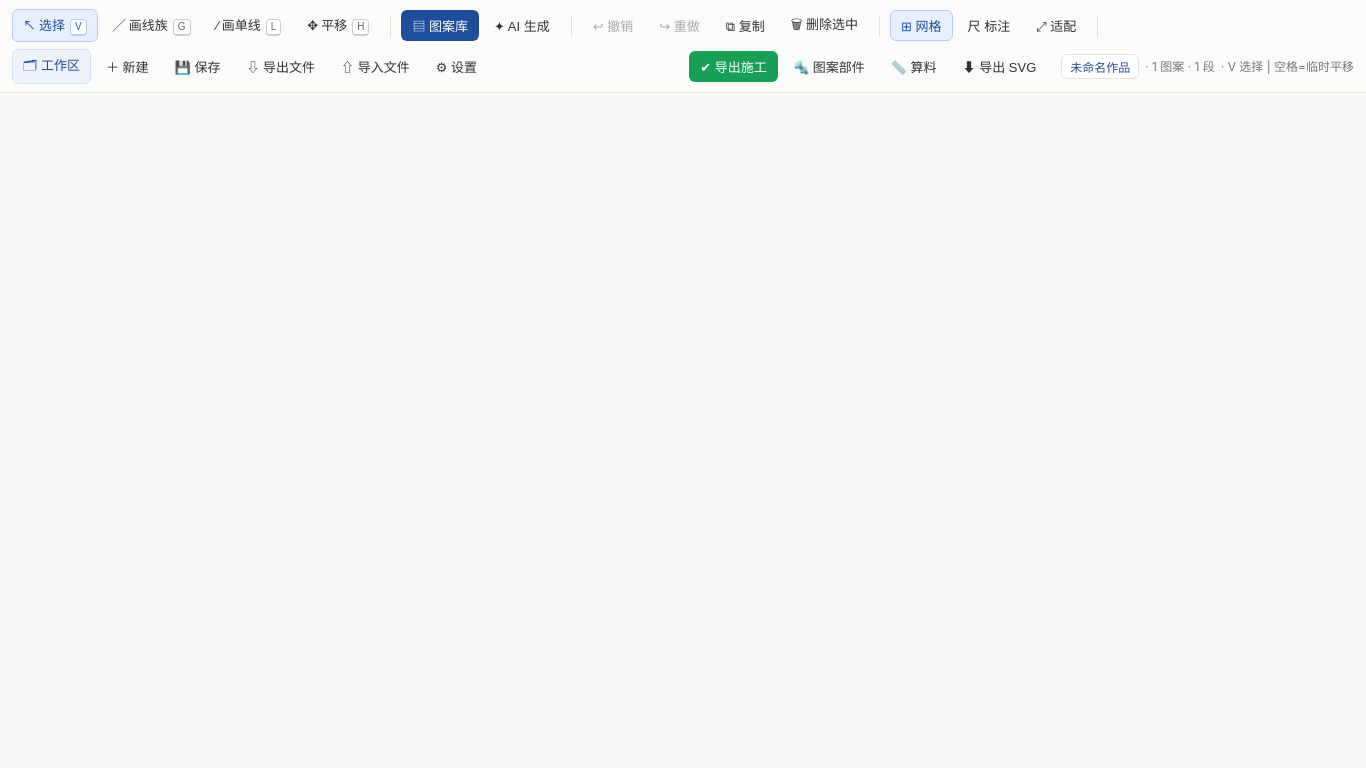
Toolbar：导出文件 / 导入文件 › 点「导出施工」弹出施工包命名弹窗，确认按钮为 success 且列出 zip 内容
The image size is (1366, 768).
What coordinates should you click on to do the following:
click the button "✔ 导出施工"
I would click on:
 (734, 66)
Its box is [689,51,778,82].
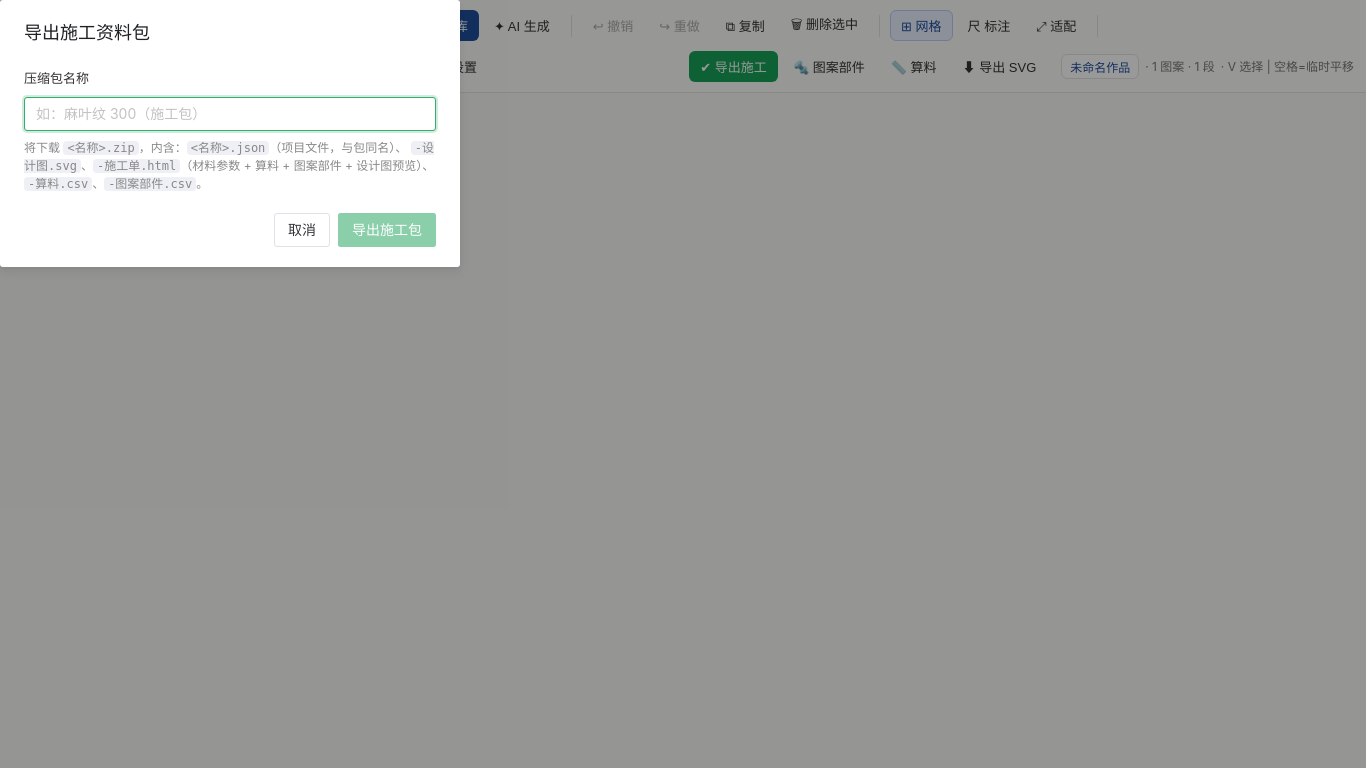
Expected: the text "导出施工资料包" is shown, [24,22,150,43]
Expected: the text "压缩包名称" is shown, [24,70,89,86]
Expected: the text "-施工单.html" is shown, [93,159,180,173]
